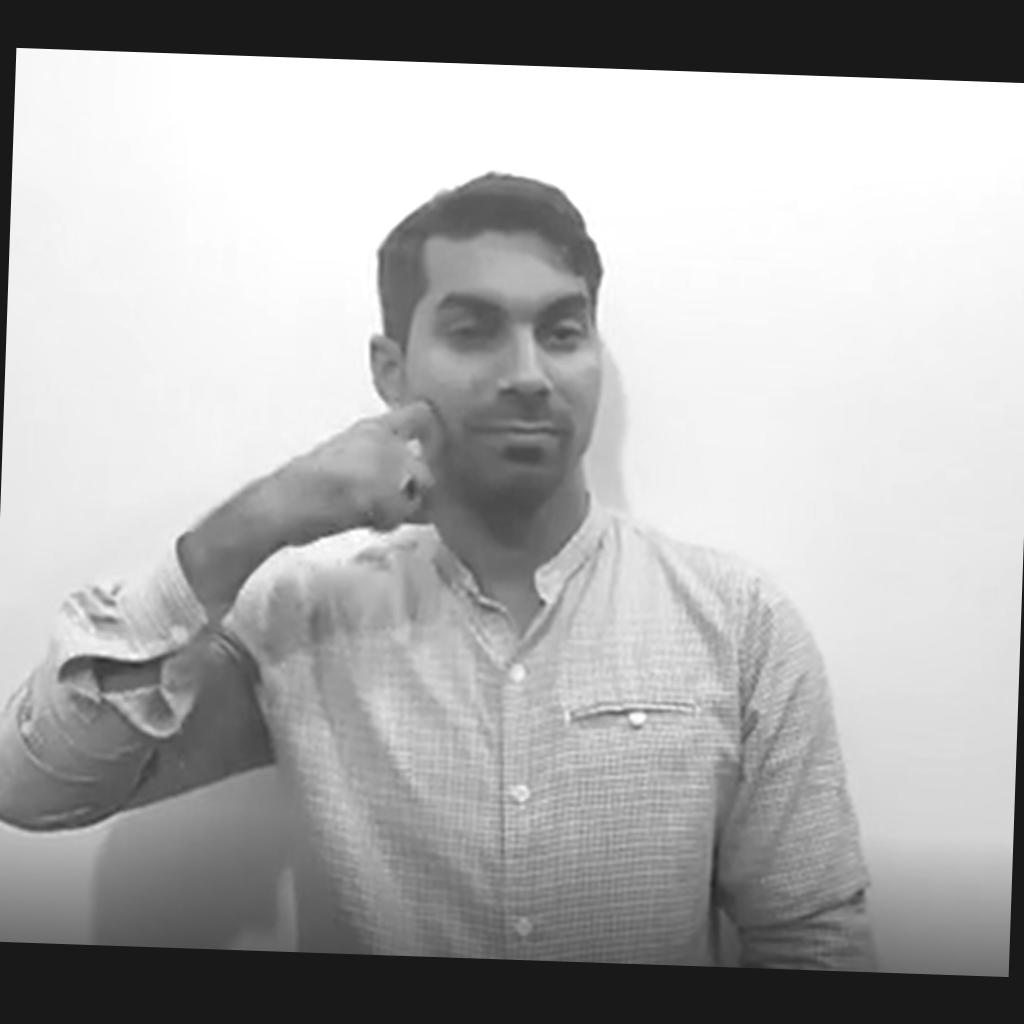apple: (298, 396, 448, 534)
